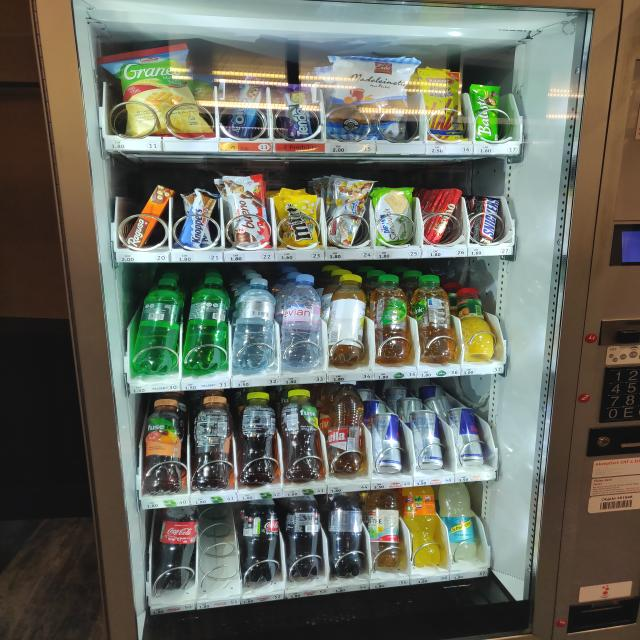balisto_muesli__37g__5000159418546: (470, 83, 503, 142)
bueno___43__4008400320328: (226, 171, 273, 249)
coke__flasche_50__54491472: (148, 504, 195, 593)
coke_light_flasche_50__5449238: (327, 491, 362, 577)
coke_zero_flasche_50__5449000131836: (235, 499, 282, 582), (281, 494, 325, 578)
darwida_sandwich____7610032065170: (374, 185, 419, 248)
erle____: (328, 56, 413, 143)
evian___50__3068320353500: (278, 276, 322, 365)
fanta___50__40822938: (407, 485, 441, 570)
fuse_lemon__50__5449000235947: (237, 394, 278, 487), (282, 388, 318, 483)
fuse_peach__50__5449000236623: (187, 391, 237, 496), (141, 397, 186, 494)
granini_orange__50__: (460, 286, 489, 361)
knoppers_riegel____4035800488808: (175, 190, 218, 250)
lorenz_studentenfutter____: (326, 175, 371, 247)
malburner_partysticks__40__7610200279682: (423, 70, 460, 140)
milka_oreo_riegel_37_1_7622210704740: (222, 74, 267, 138)
milka_tender____: (277, 84, 311, 138)
mnms_gelb__45__40111445: (274, 193, 320, 248)
momo_icetea__50__: (327, 274, 367, 365)
ragusa___50__76401121: (123, 182, 173, 249)
ramseier_jusdepomme__50__7610057001078: (361, 489, 402, 566)
redbull___33__90162909: (408, 411, 448, 466), (372, 412, 408, 473), (452, 408, 487, 464)
rivella_rot__50__7610097111072: (322, 382, 369, 474)
schweppes_bitterlemon__50__: (442, 482, 480, 562)
snickers___50__5000159461122: (473, 194, 507, 244)
torino___46__76415272: (423, 186, 466, 244)
valser_classic__50__76404160: (134, 276, 186, 375), (178, 276, 230, 372)
valser_still__50__7610335002575: (235, 276, 277, 371)
volvic_teeminze__50__3057640335648: (372, 273, 408, 361), (418, 275, 451, 360)
zweifel_graneochilli__100__7610095184009: (112, 39, 206, 135)
